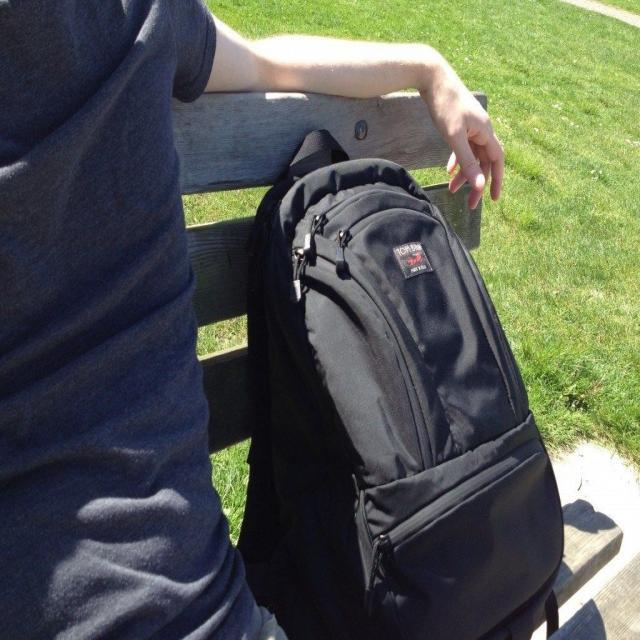Backpacks: (248, 132, 564, 634)
